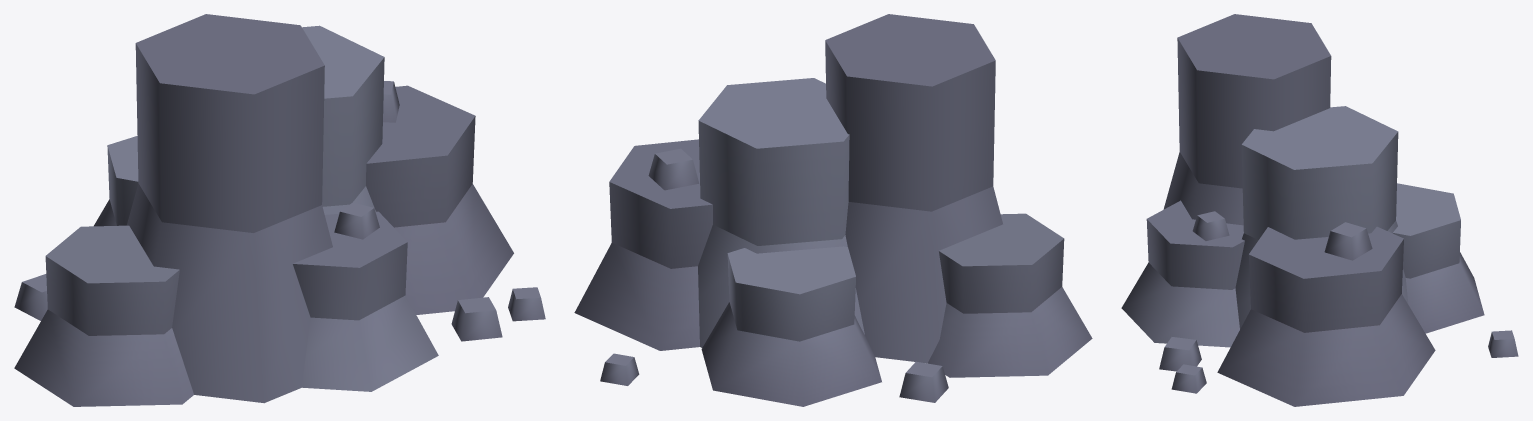
File: rocks_a.glb
3 views of the same model, side by side, from view 1: azimuth 30°, elevation 25°; view 2: azimuth 150°, elevation 25°; view 3: azimuth 270°, elevation 25° (orthographic). The views are drawn at different scales.
Visible parts, largest first — view 1: rocks-a; view 2: rocks-a; view 3: rocks-a.
Boxes of the visible parts, x1=… form: rocks-a: x1=14, y1=14, x2=545, y2=406; rocks-a: x1=574, y1=14, x2=1092, y2=406; rocks-a: x1=1121, y1=14, x2=1518, y2=406.
Size of the model in its own units: 5.11 by 2.9 by 4.39.
Materials: 1 (1 with a texture image).
